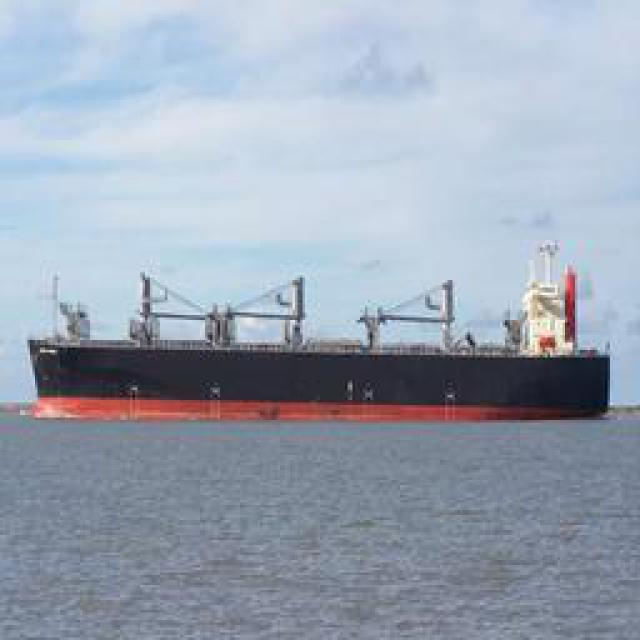Ship: (21, 251, 609, 409)
